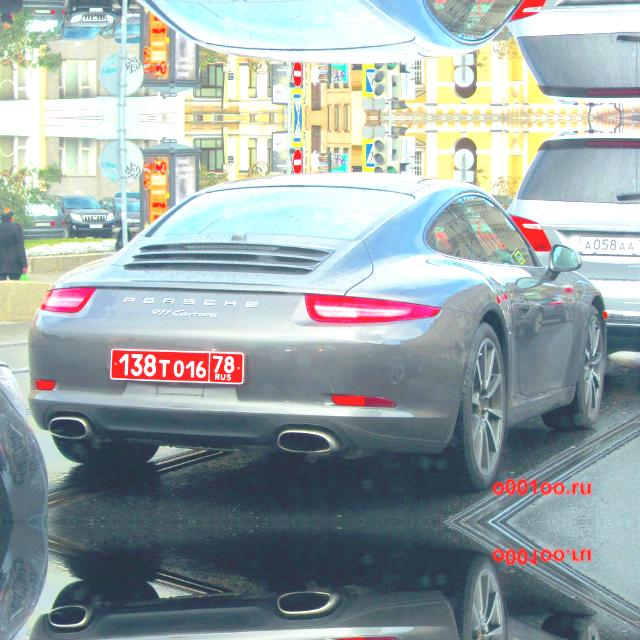citizen: (572, 226, 640, 258), (572, 0, 639, 8)
diplomatic: (104, 340, 250, 390)
